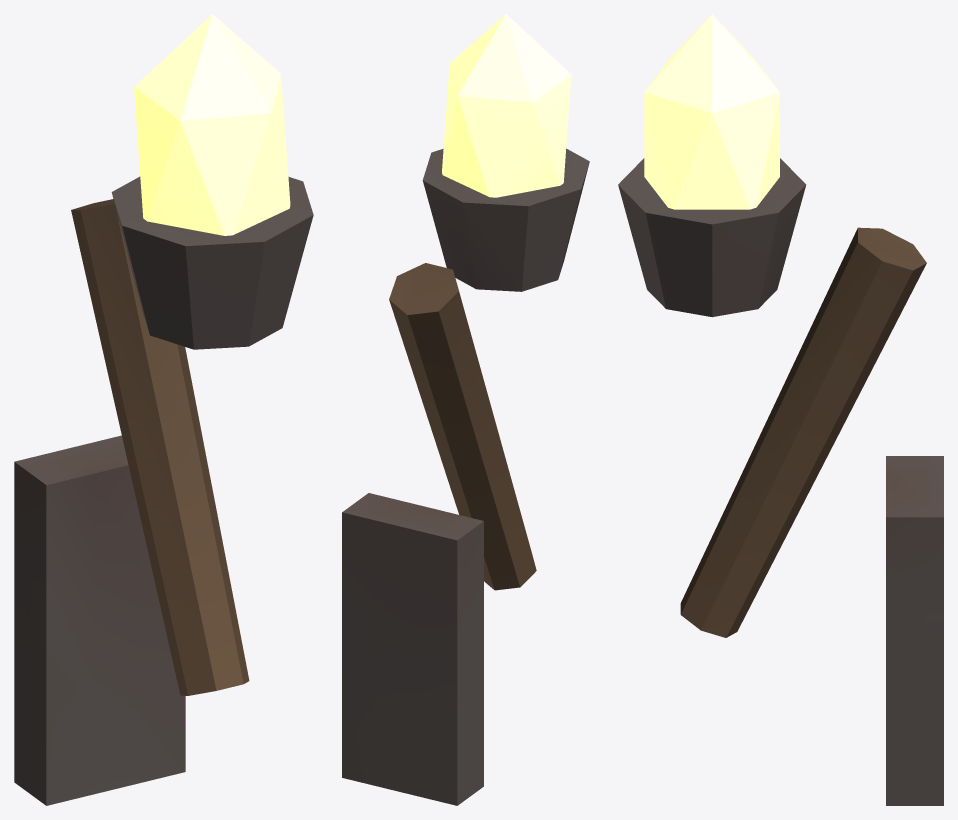
File: wall_torch.glb
3 renders of one model, left to right at view 1: azimuth 30°, elevation 25°; view 2: azimuth 150°, elevation 25°; view 3: azimuth 270°, elevation 25°, orthographic. The views are drawn at different scales.
Parts seen in each view (by area): view 1: wall_torch; view 2: wall_torch; view 3: wall_torch.
Boxes of the visible parts, x1,y1,x2,y2 form: wall_torch: [14, 14, 313, 805]; wall_torch: [342, 14, 589, 805]; wall_torch: [618, 14, 943, 805].
Size of the model in its own units: 0.26 by 1.16 by 0.45.
